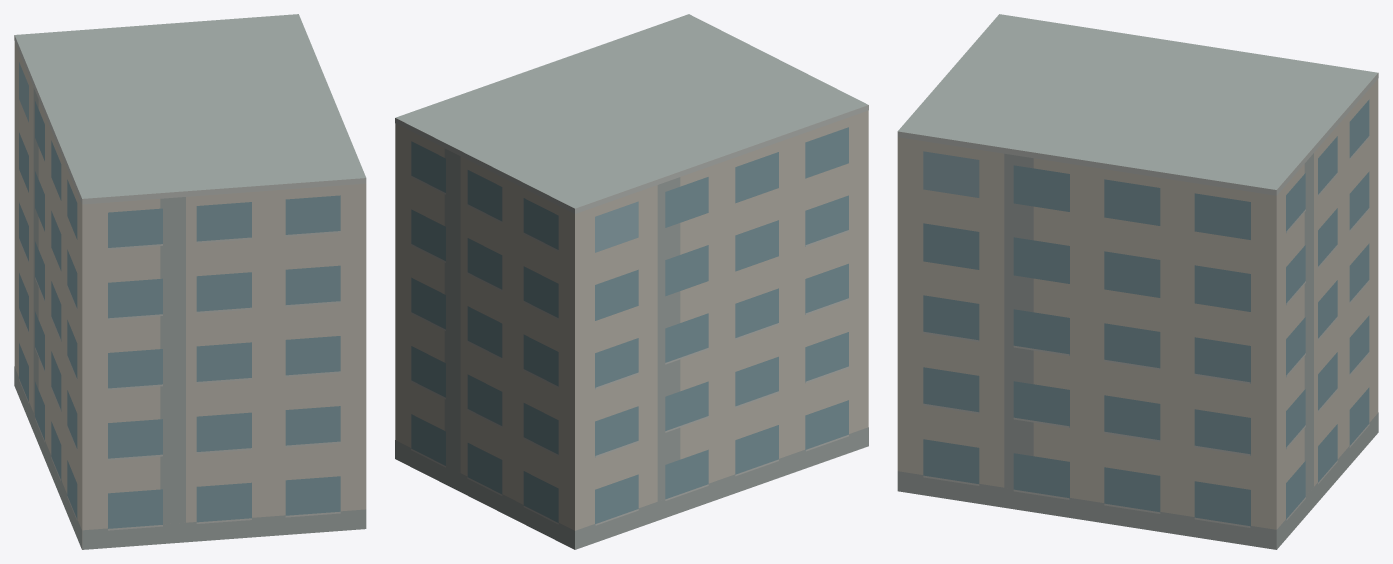
Rendered from residential-088ffac0-c881-4c34-8a2a-ffcf60687007.glb.
3 renders of one model, left to right at view 1: azimuth 30°, elevation 25°; view 2: azimuth 150°, elevation 25°; view 3: azimuth 270°, elevation 25°, orthographic. The views are drawn at different scales.
Visible parts, largest first — view 1: residential-088ffac0-c881-4c34-8a2a-ffcf60687007.tmp; view 2: residential-088ffac0-c881-4c34-8a2a-ffcf60687007.tmp; view 3: residential-088ffac0-c881-4c34-8a2a-ffcf60687007.tmp.
Part boxes in pixels (<box>): residential-088ffac0-c881-4c34-8a2a-ffcf60687007.tmp: <box>14,14,366,549</box>; residential-088ffac0-c881-4c34-8a2a-ffcf60687007.tmp: <box>395,14,868,549</box>; residential-088ffac0-c881-4c34-8a2a-ffcf60687007.tmp: <box>897,14,1378,549</box>.
Size of the model in its own units: 16.01 by 15.25 by 18.48.
